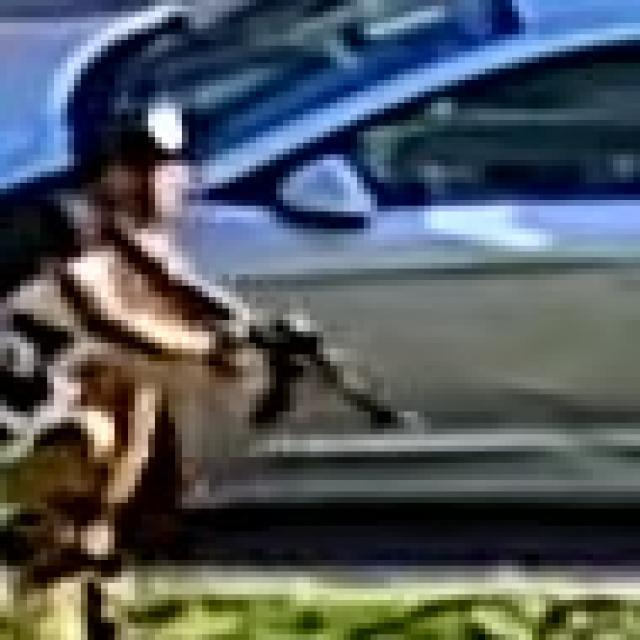weapon: (203, 290, 429, 440)
